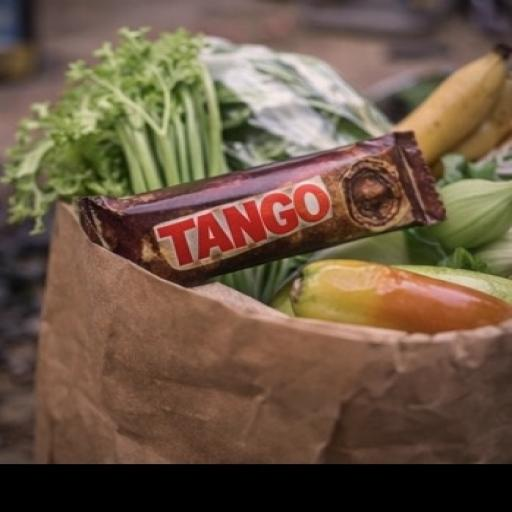tango: (67, 124, 494, 346)
